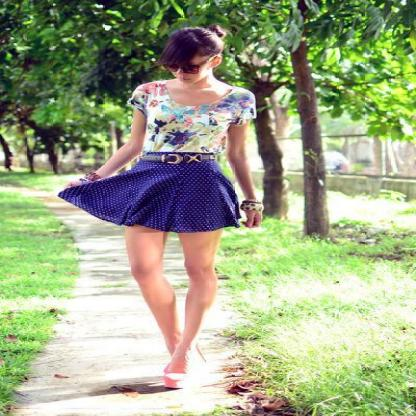shirt: (127, 75, 256, 174)
shoe: (165, 369, 201, 390)
skirt: (62, 152, 262, 232)
sunglass: (163, 51, 199, 73)
